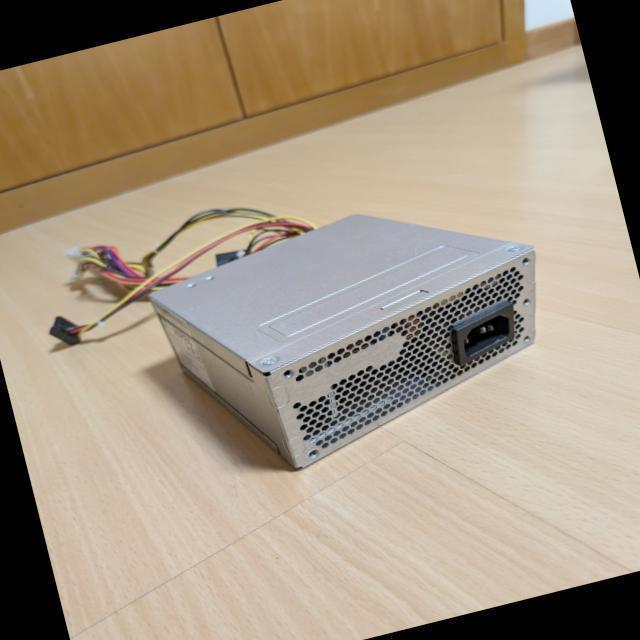PSU: (140, 172, 574, 496)
